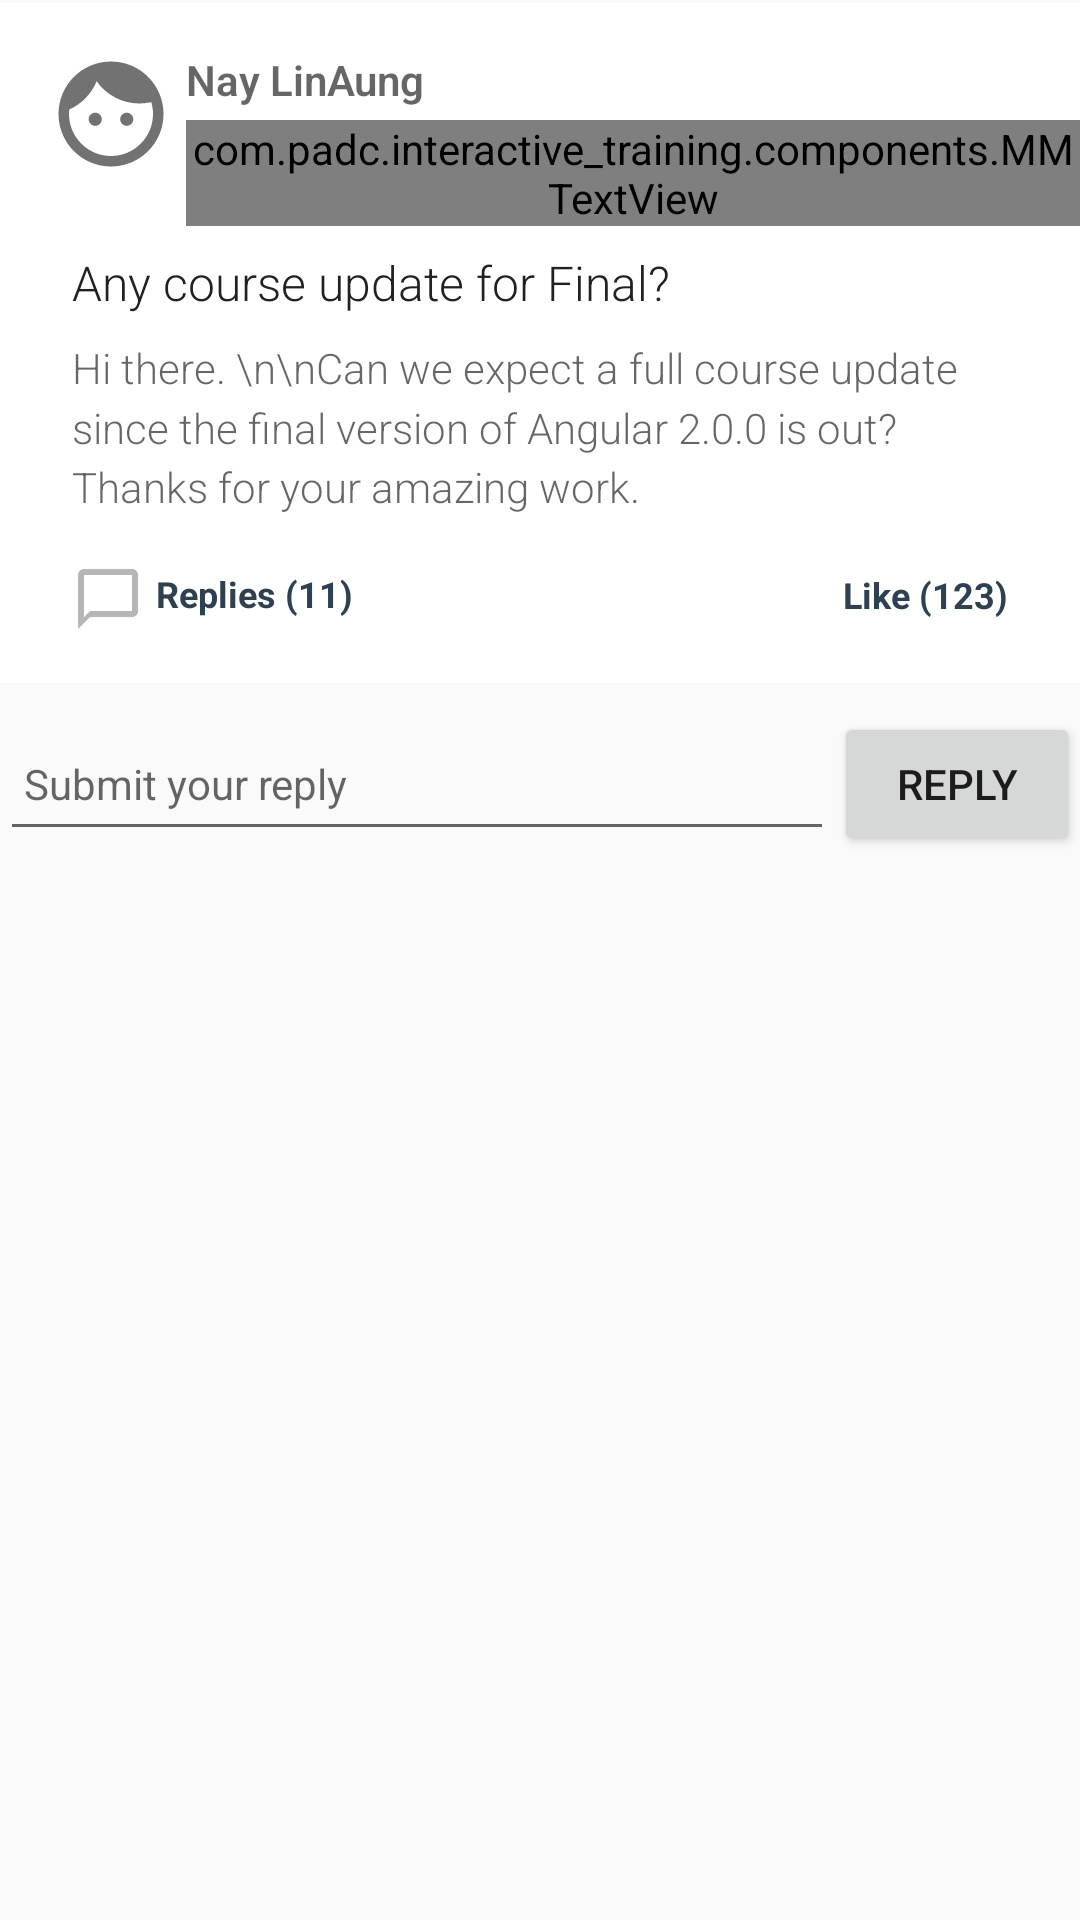

Screen size 1080px x 1920px. Icon name, then its box in pixels as (x1,y1,x2,y2):
chat bubble: (78,569,138,629)
face: (58,61,164,167)
